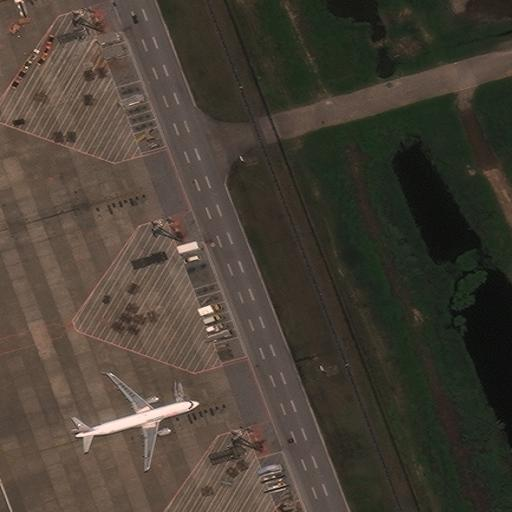Medium Civil Transport: (73, 371, 199, 470)
